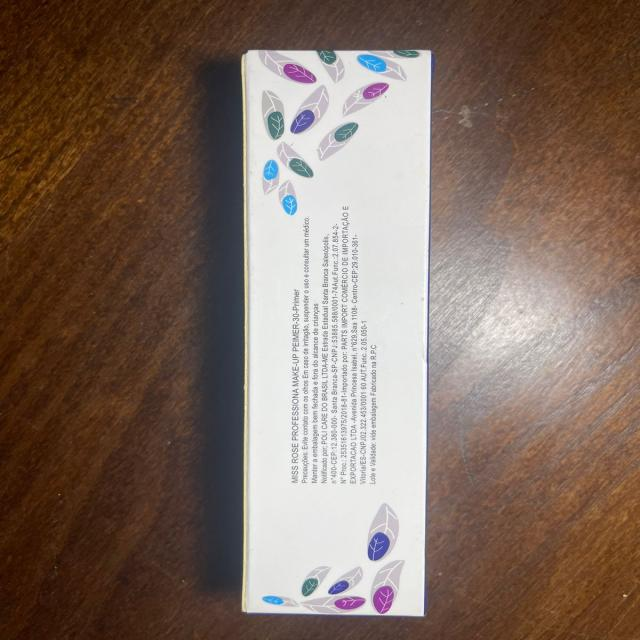primer: (208, 30, 480, 640)
